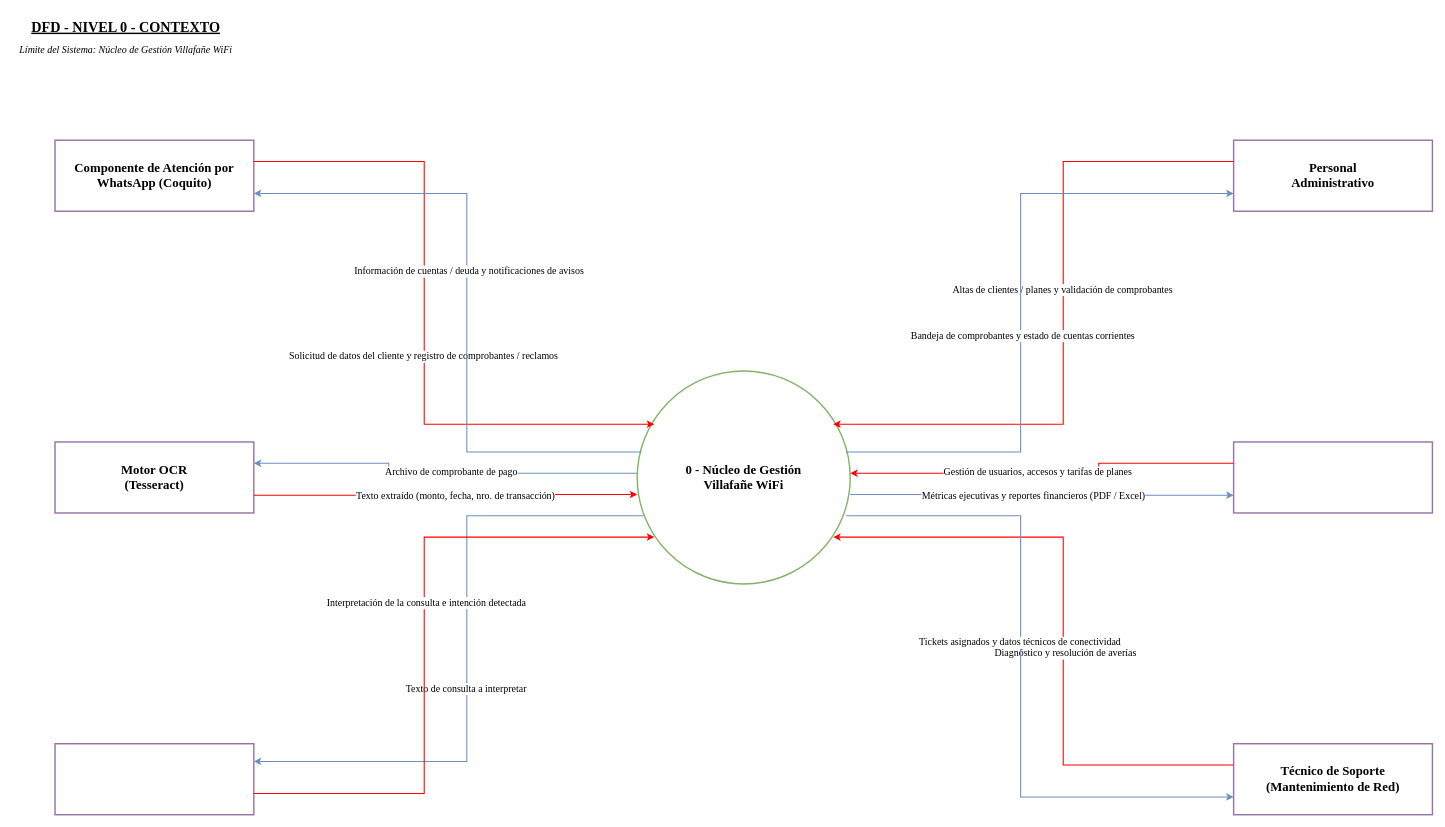
The diagram is 1445 pixels wide and 827 high, and some of its shapes have lost their labels. The shapes that lost their labels are listed below. From the top down, each one's box as (x1, y1, x2, y2) in pixels, then its label:
(1233, 441, 1433, 513): Administrador (Dueño / Gerencia)
(54, 743, 254, 815): Servicio de IA (Google Gemini)
